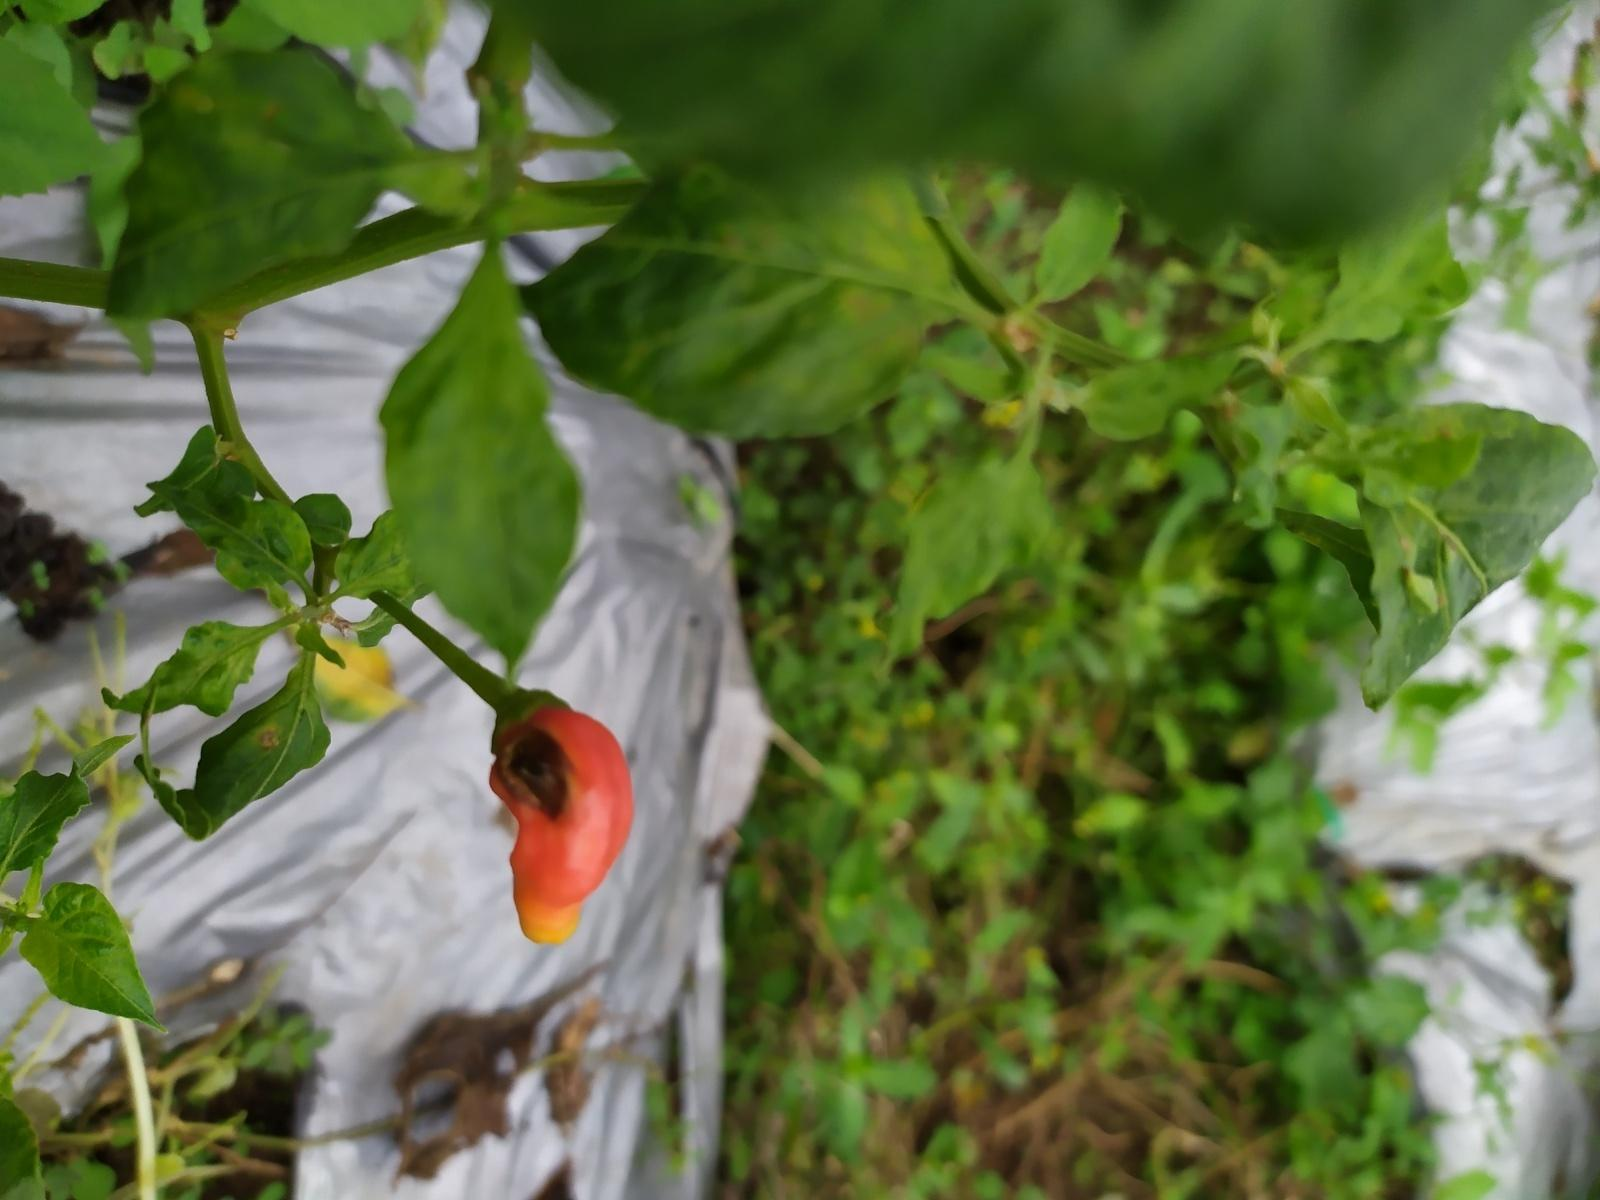antraknosa: (490, 696, 634, 947)
